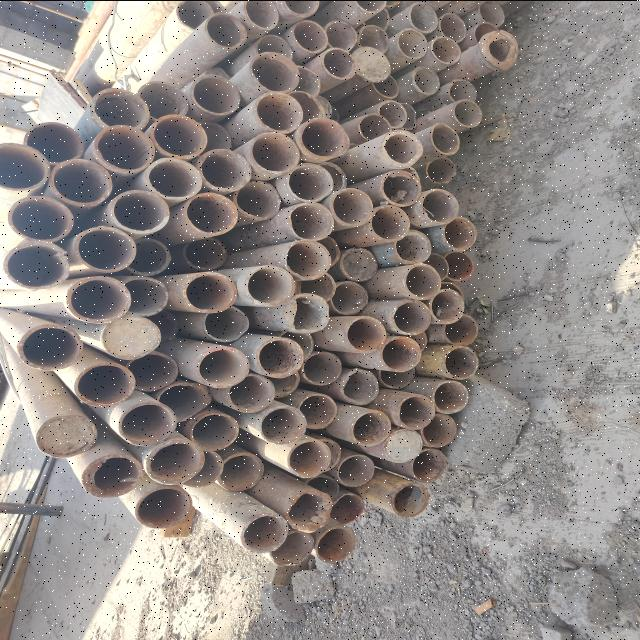pipe: (1, 242, 68, 292), (64, 273, 130, 323), (15, 322, 81, 370), (6, 194, 74, 240), (92, 124, 156, 172), (34, 412, 98, 458), (75, 224, 136, 272), (86, 86, 152, 130), (80, 452, 142, 498), (51, 159, 112, 205), (74, 362, 136, 407), (145, 439, 205, 485), (117, 400, 177, 446), (112, 188, 170, 234), (1, 140, 52, 192), (102, 314, 162, 358), (144, 156, 204, 200), (184, 190, 238, 237), (150, 114, 207, 158), (134, 486, 192, 529), (182, 270, 238, 314), (196, 344, 250, 388), (250, 89, 304, 133), (26, 121, 81, 163), (250, 130, 300, 176), (157, 381, 210, 423), (298, 116, 351, 158), (198, 150, 253, 190), (238, 512, 290, 554), (254, 336, 306, 378), (189, 72, 241, 114), (249, 51, 299, 94), (127, 351, 179, 392), (202, 9, 250, 52), (245, 264, 294, 306), (286, 488, 332, 532), (234, 178, 282, 220), (137, 80, 190, 118), (216, 451, 266, 491), (189, 410, 239, 450), (227, 372, 277, 412), (327, 188, 377, 228), (288, 160, 334, 202), (125, 236, 173, 276), (284, 239, 332, 279), (379, 126, 424, 168), (259, 406, 307, 445), (286, 292, 330, 334), (286, 438, 332, 478), (379, 168, 423, 208), (314, 526, 360, 564), (268, 530, 316, 566), (286, 202, 334, 238), (180, 449, 223, 489), (342, 316, 387, 354), (182, 235, 228, 271), (380, 334, 423, 372), (302, 350, 346, 387), (204, 306, 249, 342), (478, 30, 518, 70), (340, 367, 380, 405), (402, 262, 442, 300), (352, 44, 390, 84), (330, 278, 372, 314), (390, 481, 430, 518), (352, 409, 392, 446), (392, 298, 432, 335), (382, 428, 424, 463), (418, 188, 461, 222), (339, 246, 381, 280), (410, 447, 450, 482), (439, 346, 482, 378), (372, 205, 409, 242), (298, 393, 336, 429), (398, 393, 436, 429), (394, 228, 432, 264), (428, 288, 466, 324), (442, 213, 478, 251), (172, 1, 219, 30), (420, 413, 460, 447), (430, 380, 470, 414), (339, 452, 375, 488), (328, 492, 366, 526), (441, 313, 479, 347), (297, 272, 339, 302), (292, 18, 328, 52), (322, 17, 358, 51), (320, 47, 358, 79), (242, 0, 282, 30), (426, 122, 461, 154), (250, 34, 292, 60), (441, 250, 477, 280), (406, 65, 442, 95), (426, 154, 458, 187), (354, 112, 390, 140), (356, 24, 392, 52), (452, 97, 484, 128), (407, 1, 438, 32), (378, 364, 418, 388), (396, 28, 428, 58), (367, 74, 405, 99), (429, 36, 462, 64), (375, 99, 407, 127), (439, 12, 467, 42), (446, 79, 476, 103), (478, 2, 506, 26), (280, 0, 320, 16), (472, 21, 498, 42), (352, 0, 388, 13)
